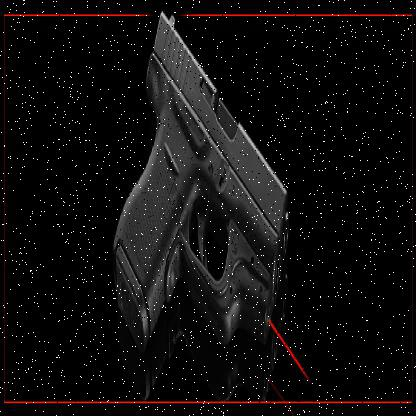pistol: (111, 22, 290, 358)
